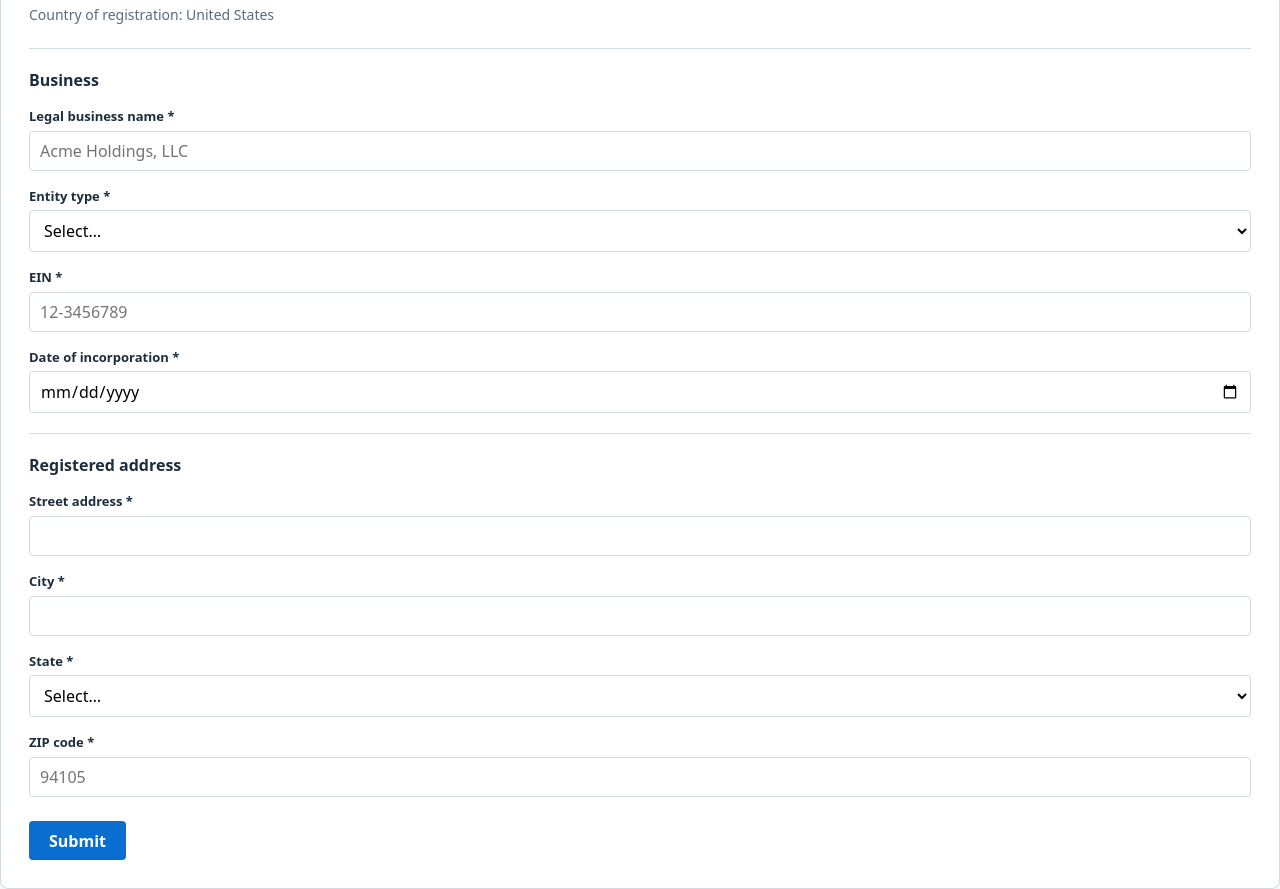
Test: BusinessDetailsForm › blocks submission and surfaces messages when the form is empty
(page scrolled)
Click the button "Submit". click: (78, 841)
box: [29,821,126,860]
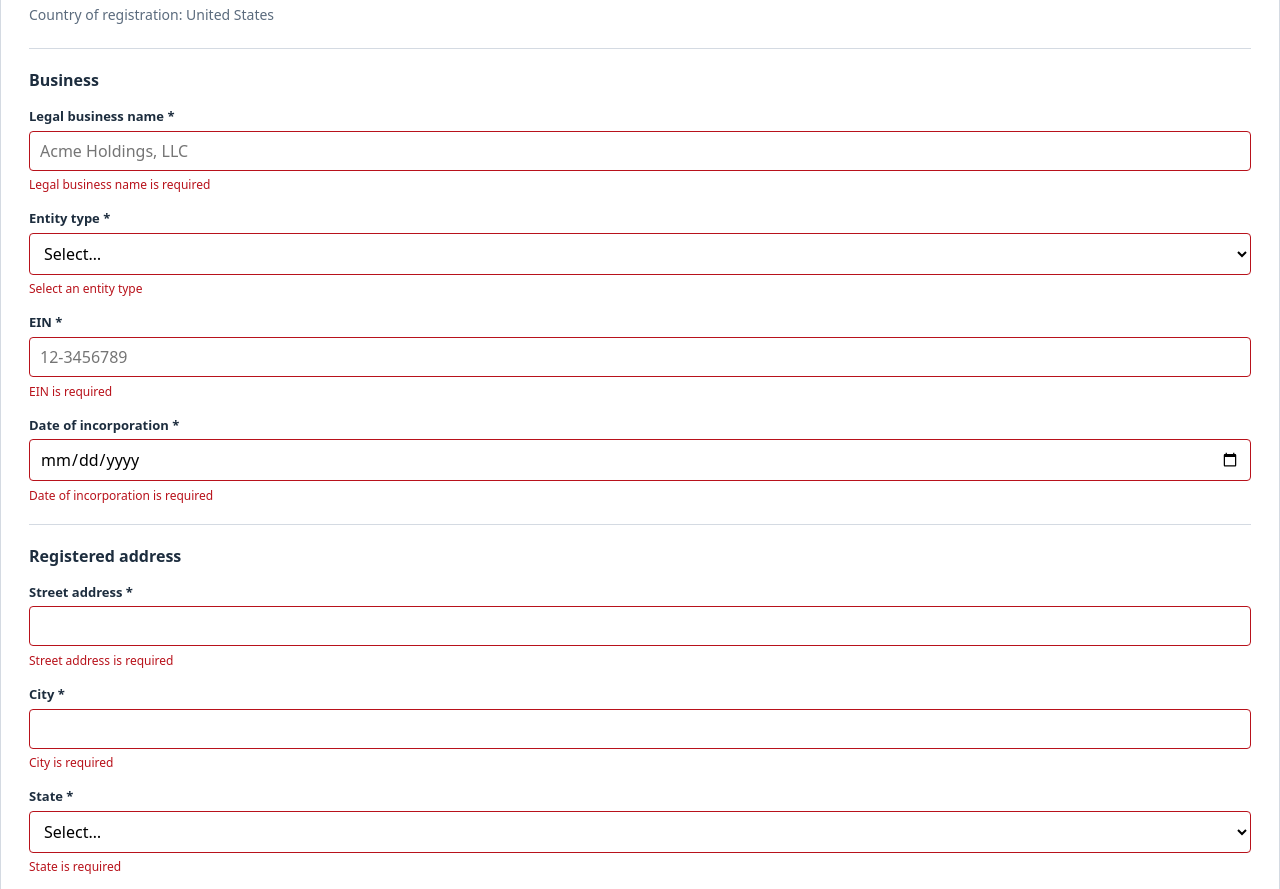
expect the text "Legal business name is required" is shown: met, box [29,176,210,193]
expect the text "EIN is required" is shown: met, box [29,383,112,400]
